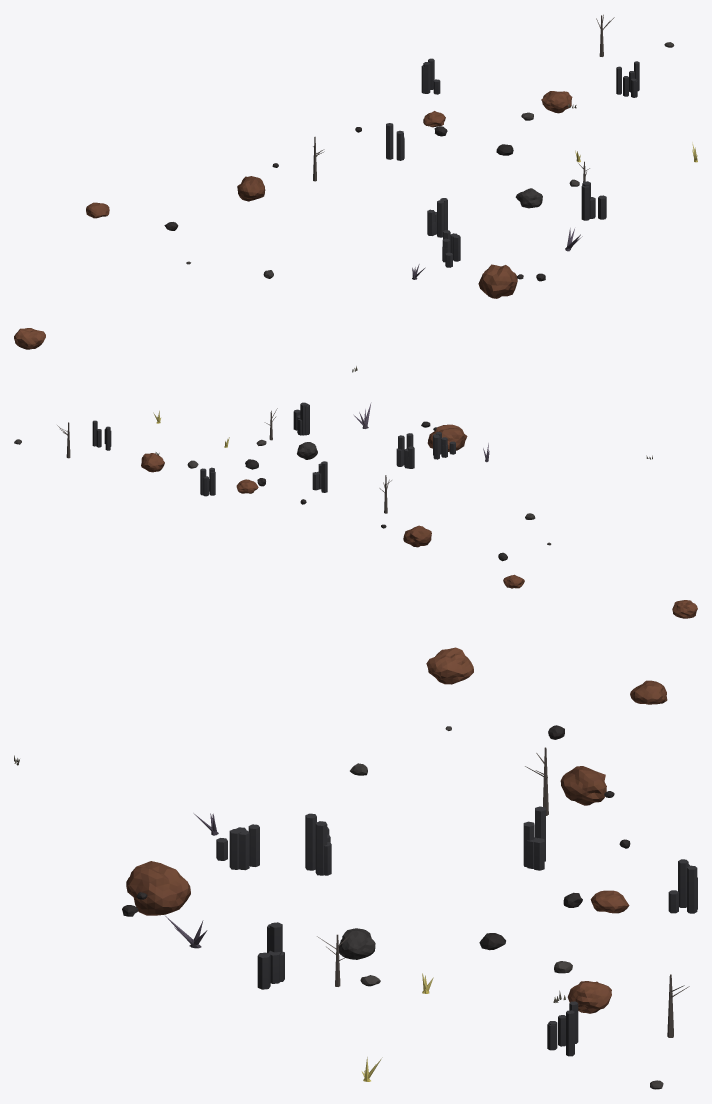
The model's file is ash_land_scatter_c14_30.glb.
The picture shows the model from 3 angles, top to bottom: view 1: azimuth 30°, elevation 25°; view 2: azimuth 150°, elevation 25°; view 3: azimuth 270°, elevation 25°; orthographic projection. The views are drawn at different scales.
Parts seen in each view (by area): view 1: ash_land_scatter_c14_30; view 2: ash_land_scatter_c14_30; view 3: ash_land_scatter_c14_30.
Boxes of the visible parts, left/top/right/bottom form: ash_land_scatter_c14_30: left=14, top=14, right=697, bottom=372; ash_land_scatter_c14_30: left=14, top=402, right=697, bottom=618; ash_land_scatter_c14_30: left=14, top=647, right=697, bottom=1089.
Bounding box in the file's own units: 107 × 17.17 × 57.31.
